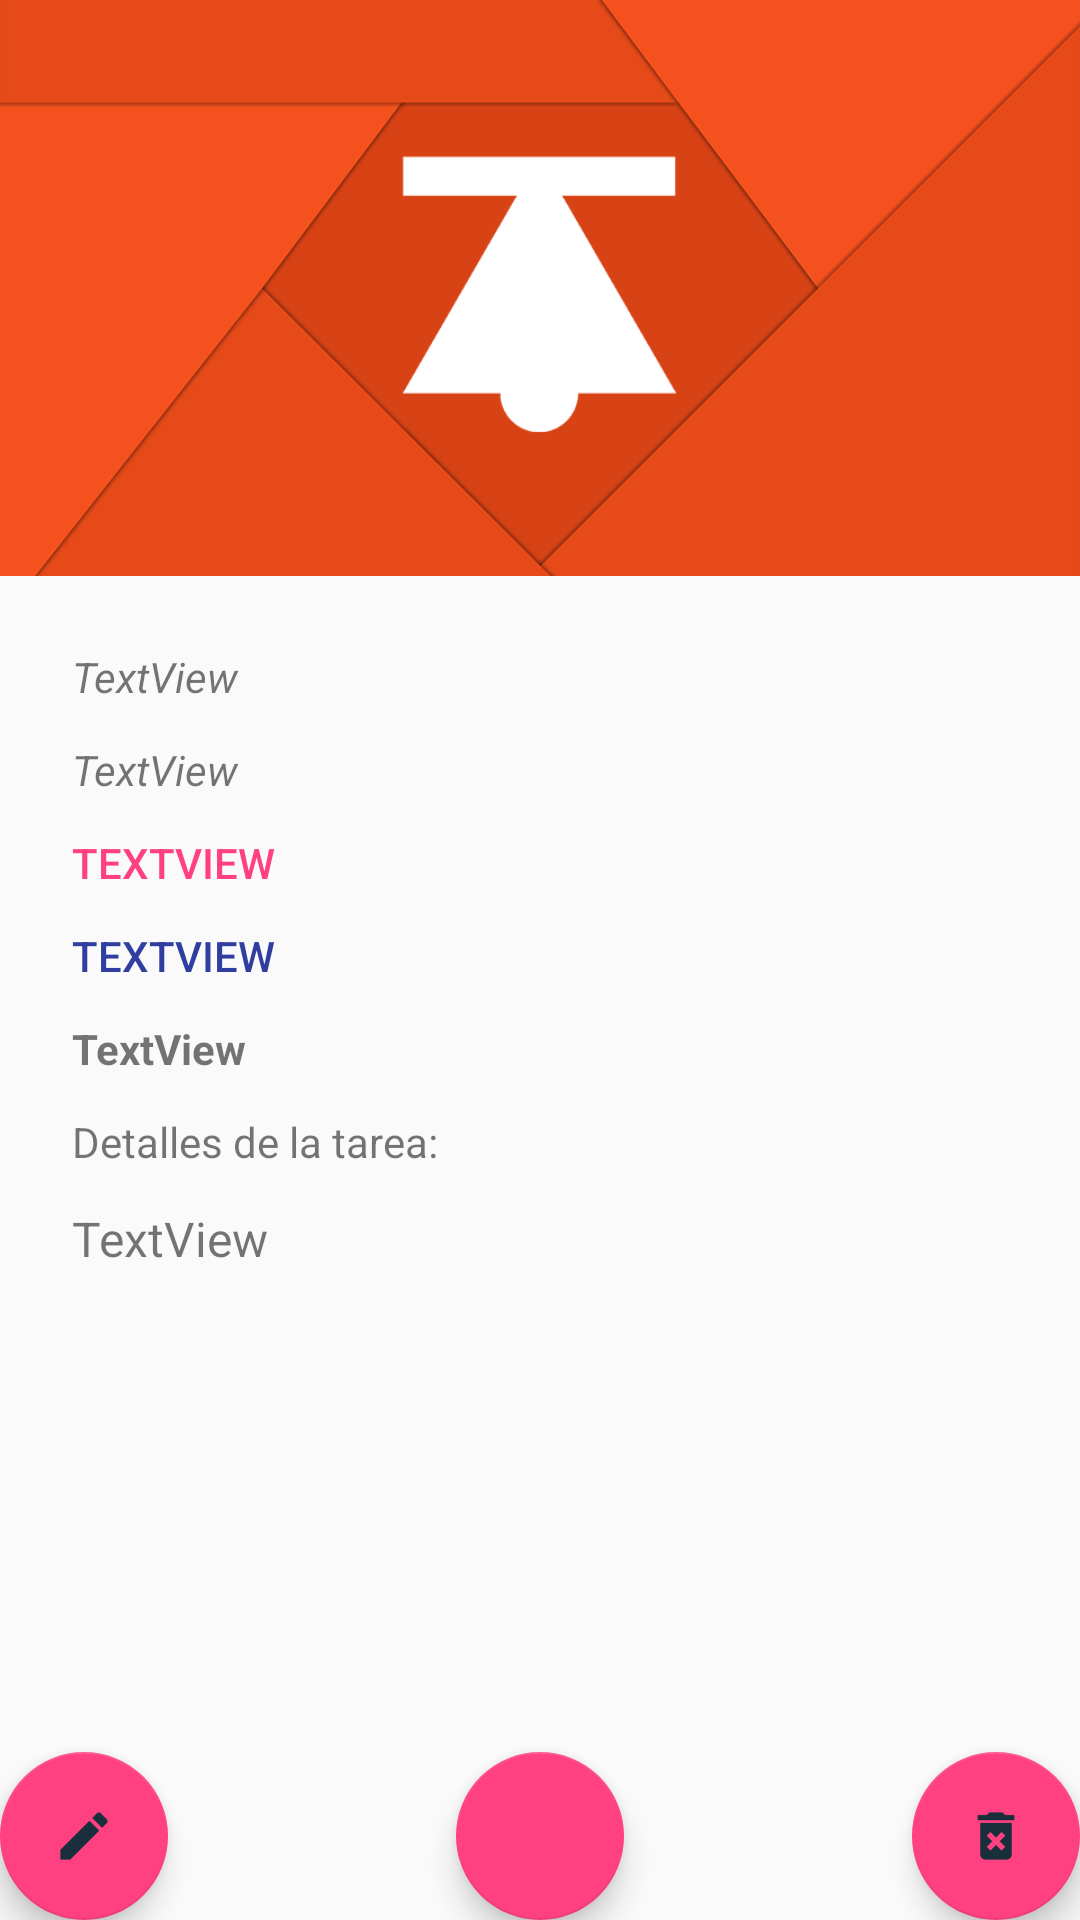

Where to tap for icons on this 1080w x 1920h app screen, as (x=x, y=y):
delete: (x=996, y=1836)
edit: (x=84, y=1836)
